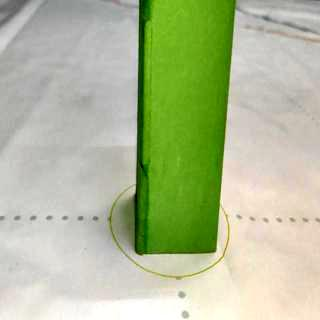greenbox: (139, 0, 238, 254)
